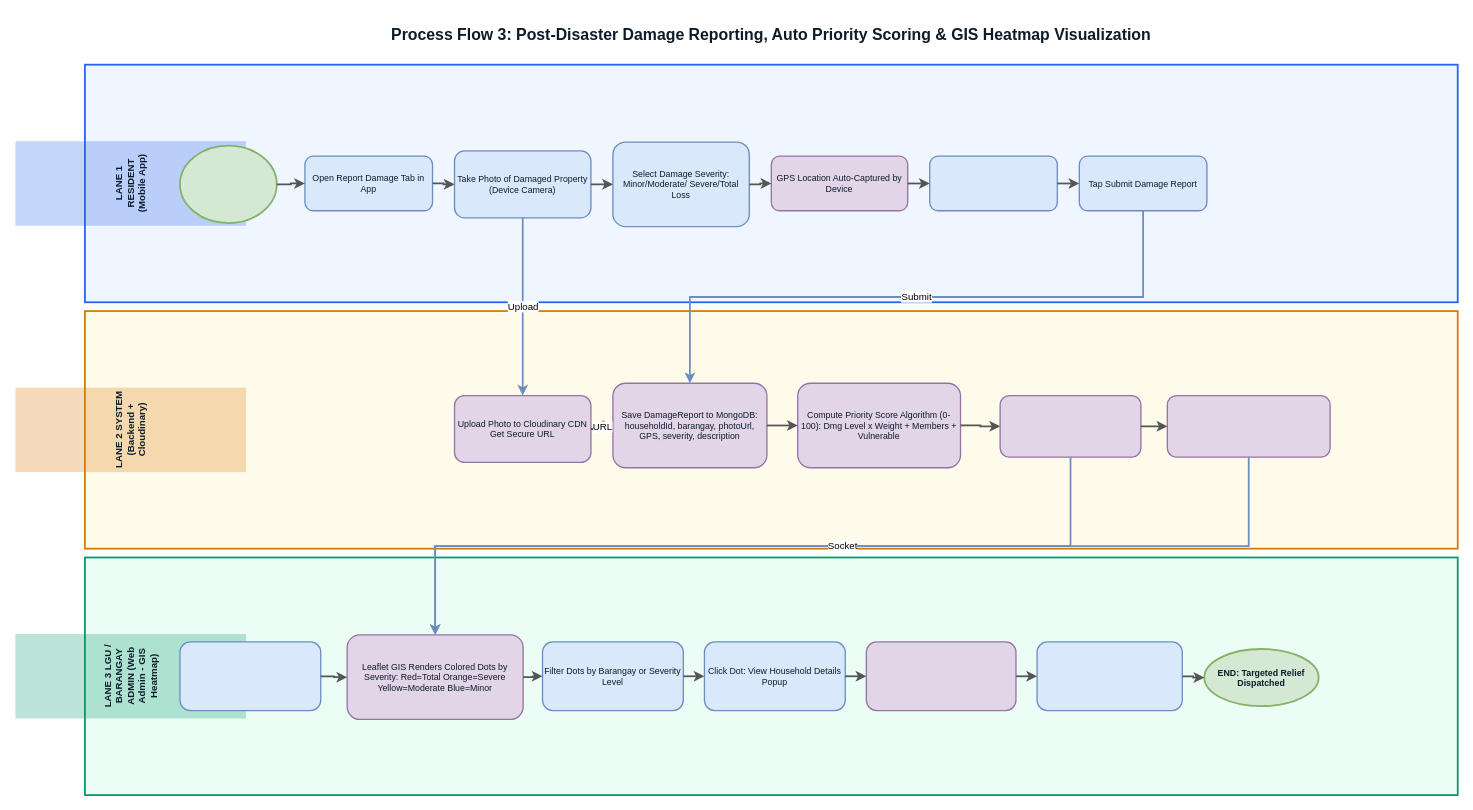
This 1473x810 diagram has some shape labels left out. Each missing label, with the centre of its shape:
Describe Additional Damage Details: [993,183]
Emit Real-Time Socket.IO Update to Admin Dashboards: [1248,426]
Identify Highest Need Households for Aid Dispatch: [1109,676]
Open Barangay Heatmap in Web Admin: [250,676]
START: Disaster Event Occurred: [228,184]
Update Household priority_score in MongoDB: [1070,426]
View Smart Priority Dashboard: Ranked Families: [940,676]
